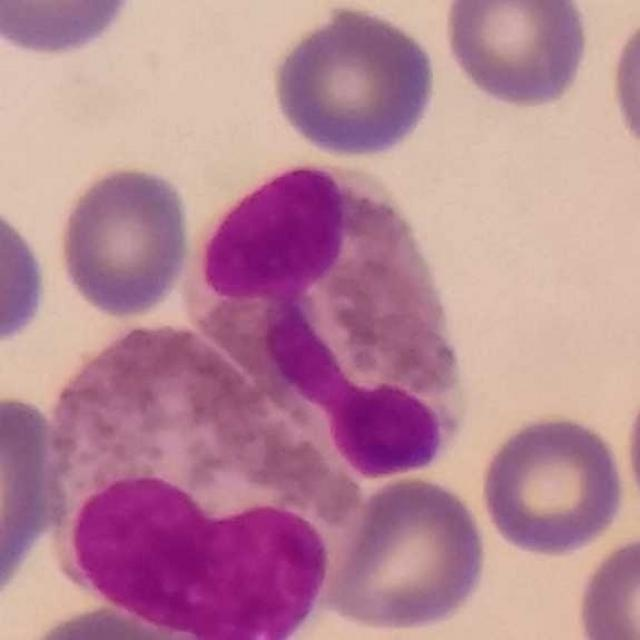eosino: (46, 323, 369, 640), (179, 158, 472, 479)
